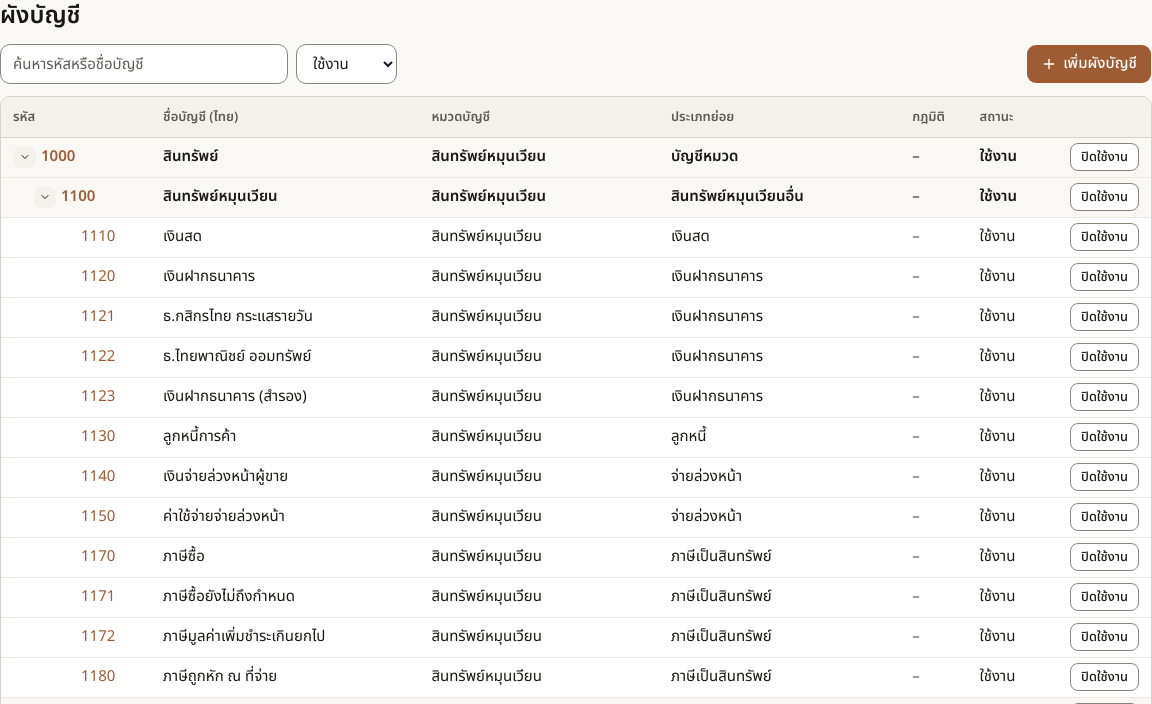
it: TreeRecordList › deactivating an account a posting rule maps names the rule and the exit; the account stays active
Click the button "ปิดใช้งาน" in the row of "ลูกหนี้การค้า" at (1104, 437), box 1070,423 -> 1139,451
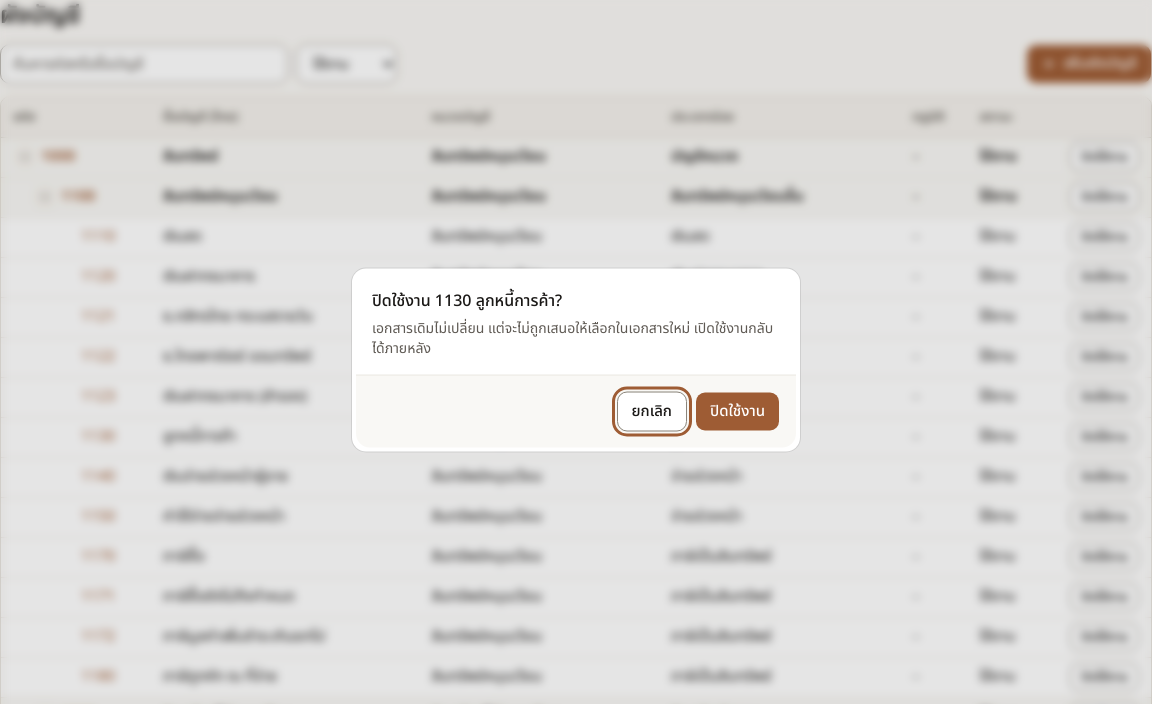
Click the button "ปิดใช้งาน" at (738, 412), box 695,392 -> 780,432
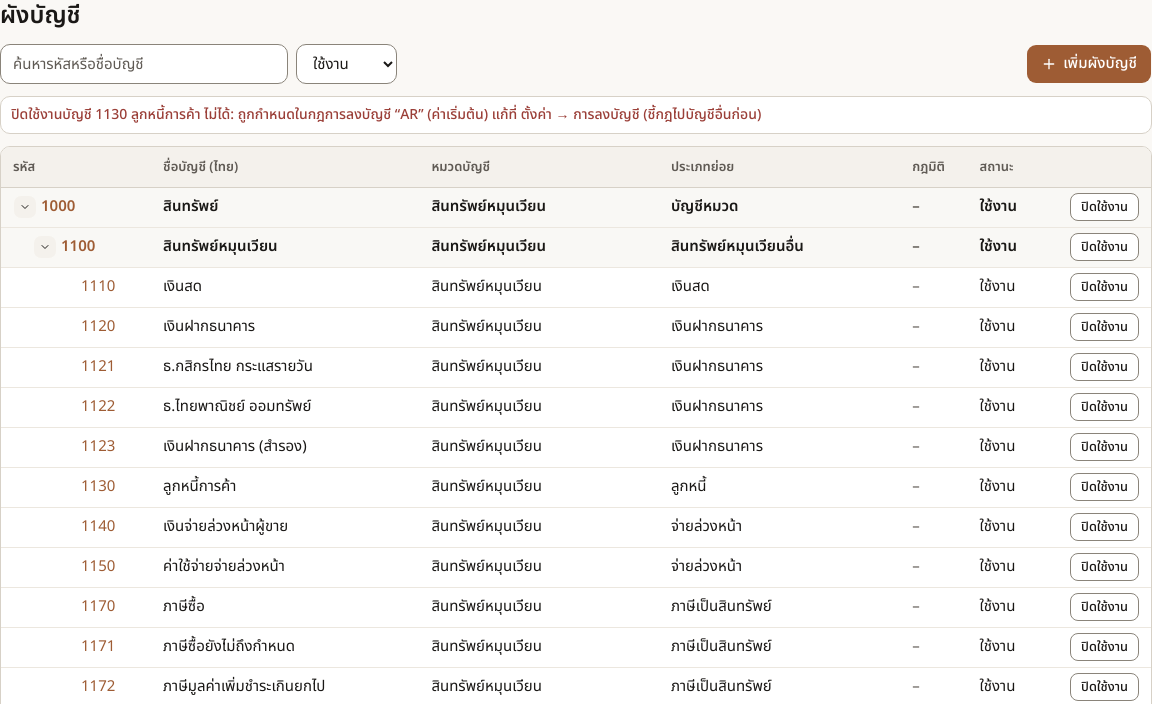
Expected: the row "1130 " is shown, 1,467 -> 1151,507
Expected: the message shows "“AR”", 11,104 -> 761,125
Expected: the message shows "แก้ที่ ตั้งค่า → การลงบัญชี", 11,104 -> 761,125
